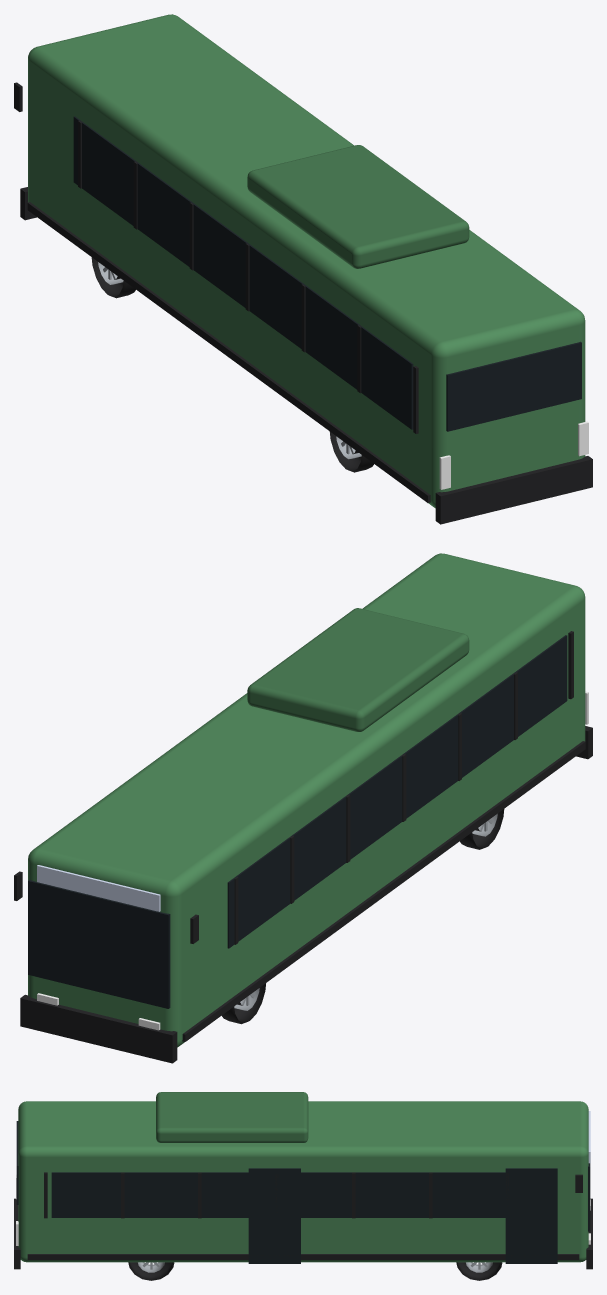
Rendered from BUS_PA.glb.
The picture shows the model from 3 angles, top to bottom: view 1: azimuth 30°, elevation 25°; view 2: azimuth 150°, elevation 25°; view 3: azimuth 270°, elevation 25°; orthographic projection. The views are drawn at different scales.
Visible parts, largest first — view 1: carPaint_0, glass_1, paint_4, tread_2, lamps_6; view 2: carPaint_0, glass_1, paint_4, tread_2, screen_3; view 3: carPaint_0, glass_1, paint_4, tread_2, steel_5.
Part boxes in pixels (x1,y1,x2,y2): carPaint_0: (28,14,585,508); glass_1: (73,116,581,431); paint_4: (247,145,469,268); tread_2: (14,82,592,524); lamps_6: (439,421,588,489); carPaint_0: (28,553,585,1047); glass_1: (28,635,567,1008); paint_4: (247,608,469,731); tread_2: (14,631,592,1063); screen_3: (37,865,160,911); carPaint_0: (18,1101,588,1262); glass_1: (16,1121,590,1263); paint_4: (156,1092,308,1142); tread_2: (14,1172,592,1280); steel_5: (138,1262,492,1272).
Bounding box in the file's own units: 3 × 3.42 × 12.18.
